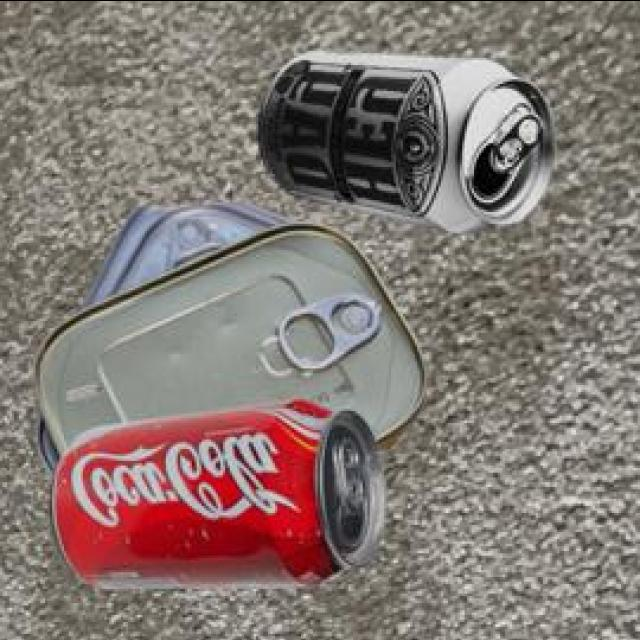logam: (30, 198, 423, 471), (46, 397, 380, 584), (255, 46, 551, 229)
